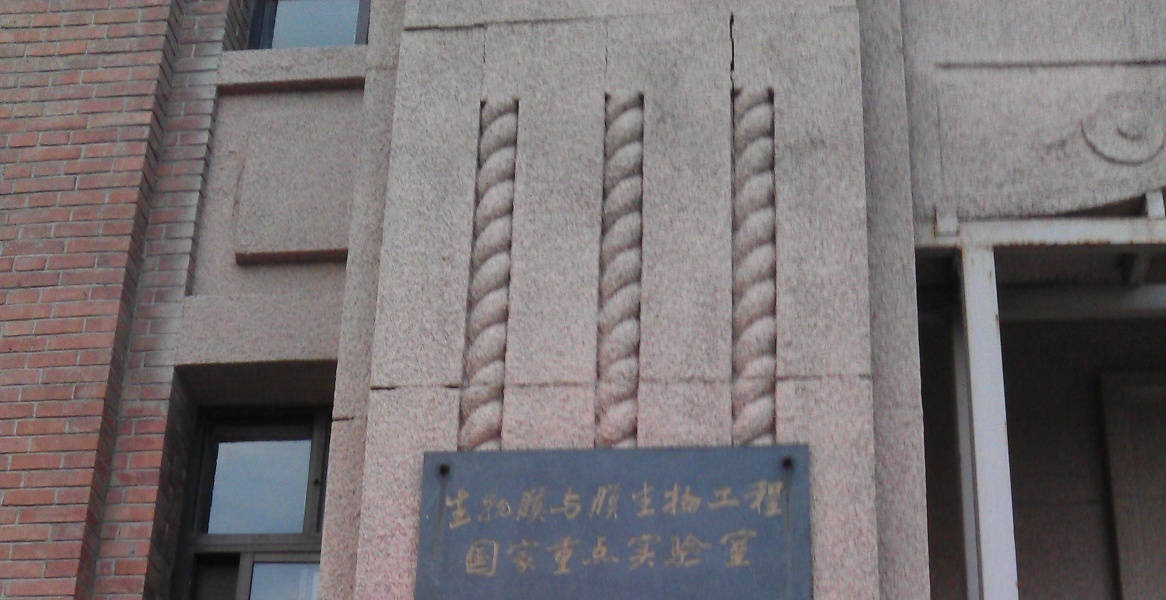text: (449, 475, 464, 529), (465, 475, 480, 529), (481, 475, 496, 529), (497, 475, 512, 529), (513, 475, 528, 529), (529, 475, 544, 529), (545, 475, 560, 529), (561, 475, 576, 529), (577, 475, 592, 529), (593, 475, 608, 529), (609, 475, 624, 529), (625, 475, 640, 529), (641, 475, 656, 529), (657, 475, 672, 529), (673, 475, 688, 529), (689, 475, 704, 529), (705, 475, 720, 529), (721, 475, 736, 529), (737, 475, 752, 529), (753, 475, 768, 529), (769, 475, 784, 529), (465, 526, 480, 578), (481, 526, 496, 578), (497, 526, 512, 578), (513, 526, 528, 578), (529, 526, 544, 578), (545, 526, 560, 578), (561, 526, 576, 578), (577, 526, 592, 578), (593, 526, 608, 578), (609, 526, 624, 578), (625, 526, 640, 578), (641, 526, 656, 578), (657, 526, 672, 578), (673, 526, 688, 578), (689, 526, 704, 578), (705, 526, 720, 578), (721, 526, 736, 578), (737, 526, 752, 578), (753, 526, 760, 578), (444, 475, 448, 529), (785, 475, 786, 529)
